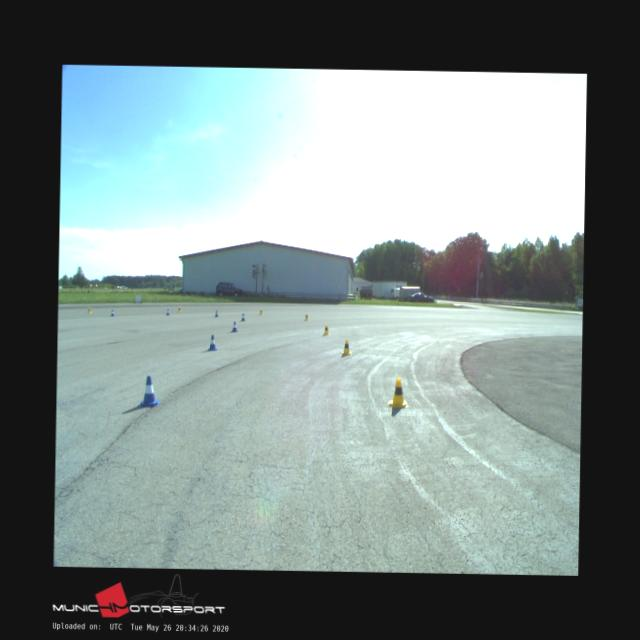blue_cone: (138, 376, 160, 406), (208, 334, 216, 350), (230, 321, 238, 332), (240, 312, 245, 320), (214, 309, 218, 317), (166, 308, 170, 316), (110, 309, 114, 316)
yellow_cone: (388, 377, 408, 408), (340, 339, 352, 354), (322, 324, 329, 334), (304, 312, 308, 320), (258, 308, 262, 315), (177, 306, 181, 312), (87, 306, 91, 312)
